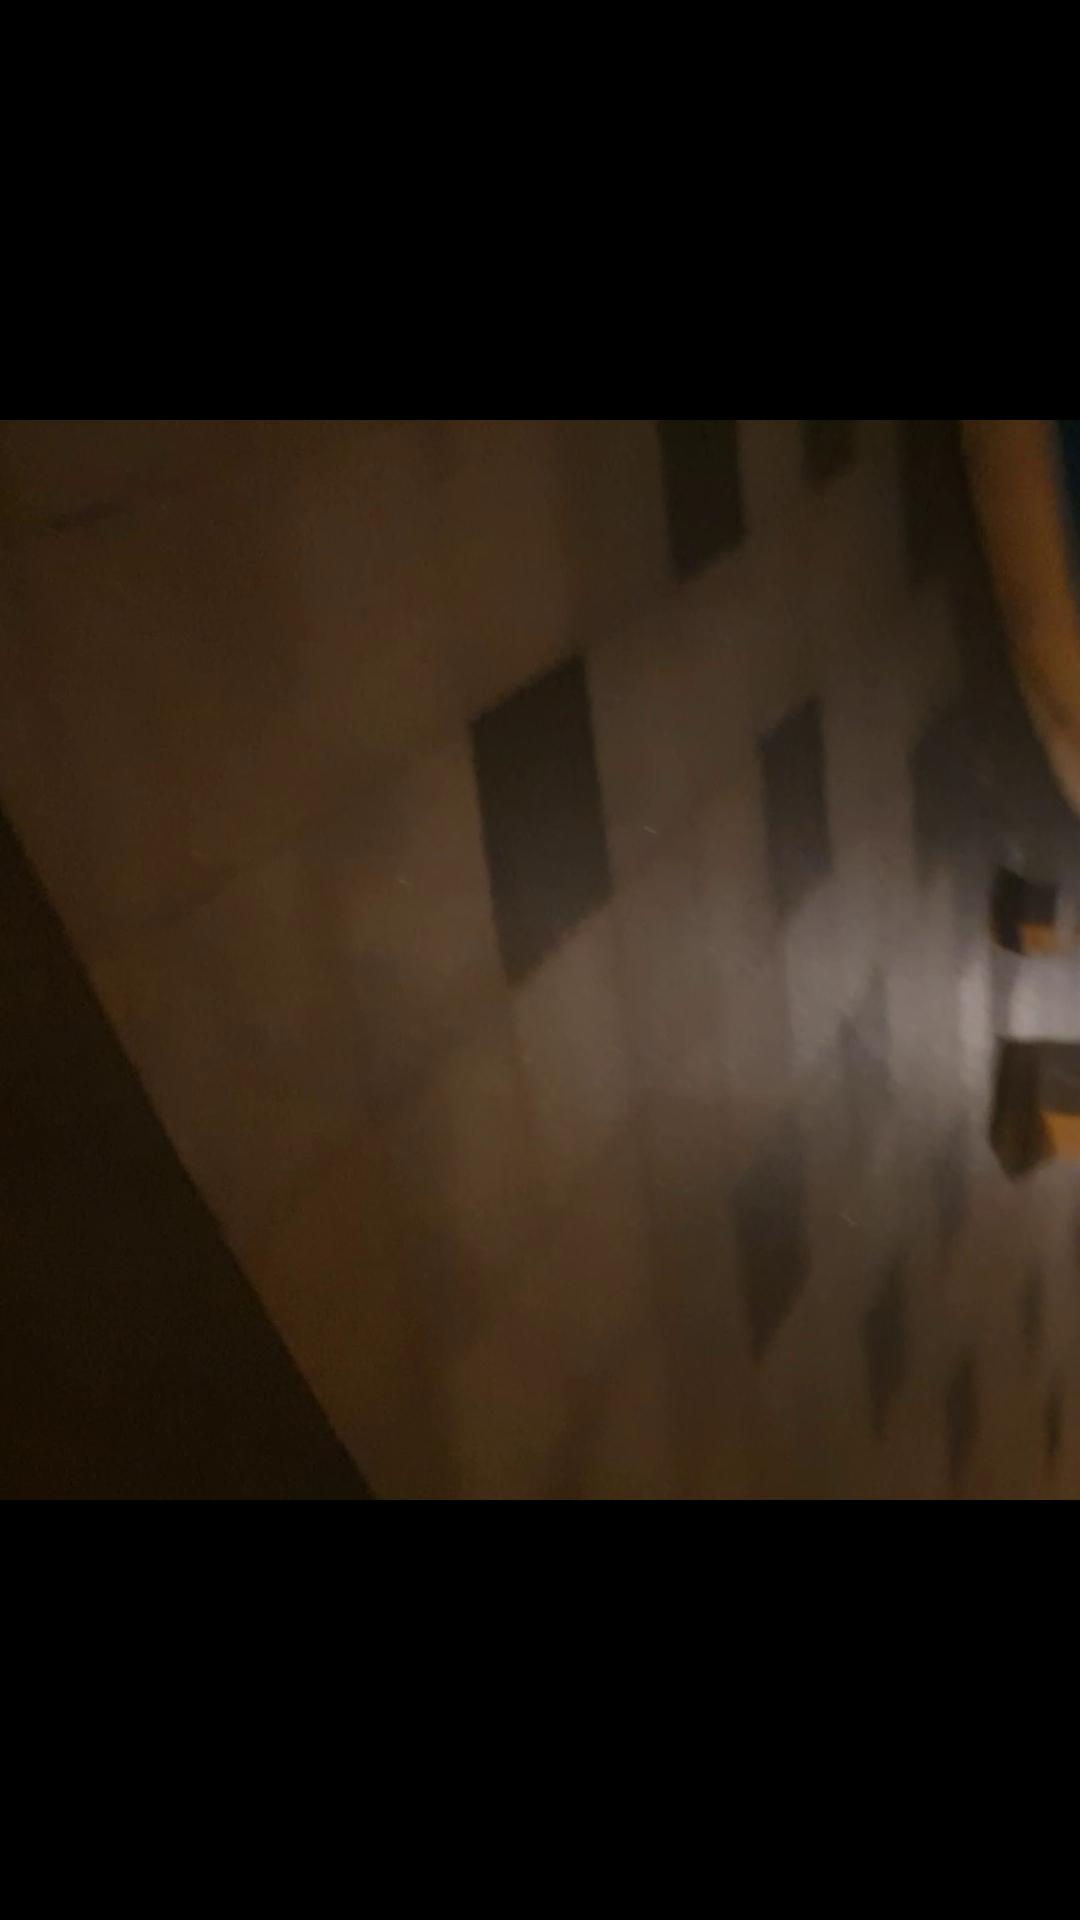Box: (1015, 1033, 1080, 1164), (1021, 873, 1080, 957)
